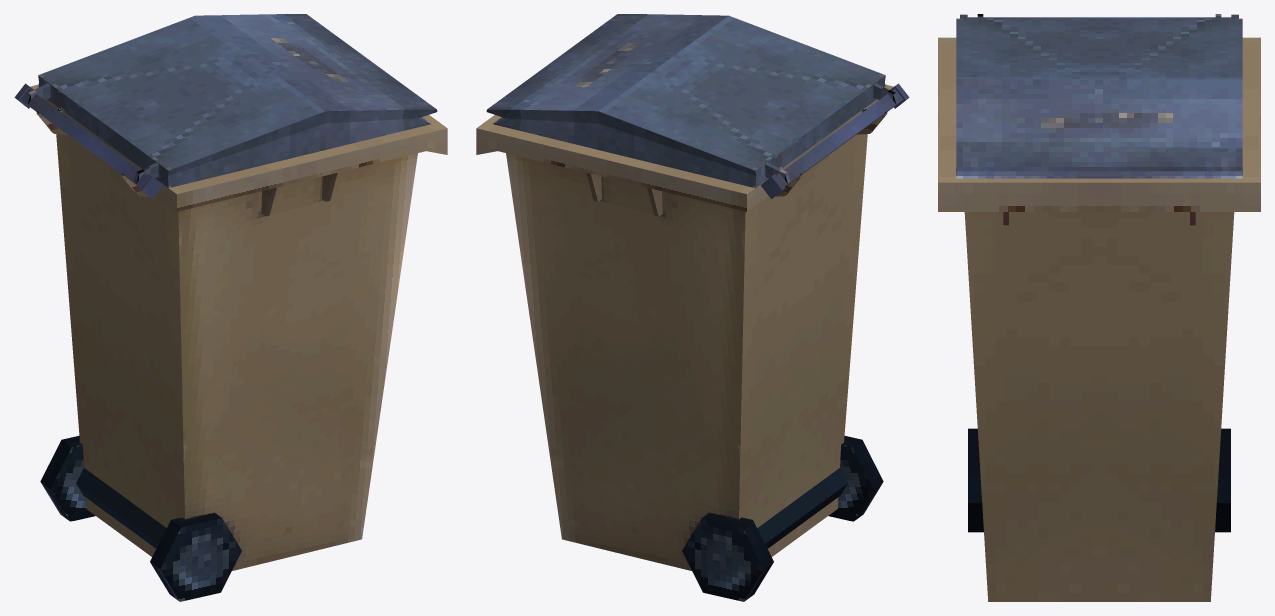
The model's file is trash_can.glb.
3 renders of one model, left to right at view 1: azimuth 30°, elevation 25°; view 2: azimuth 150°, elevation 25°; view 3: azimuth 270°, elevation 25°, orthographic. The views are drawn at different scales.
Parts seen in each view (by area): view 1: trash_can; view 2: trash_can; view 3: trash_can.
Boxes of the visible parts, x1,y1,x2,y2 form: trash_can: (14, 14, 447, 601); trash_can: (476, 14, 909, 601); trash_can: (938, 14, 1260, 601).
Size of the model in its own units: 0.9058 by 1.35 by 0.7794.
1 material, 1 textured.
